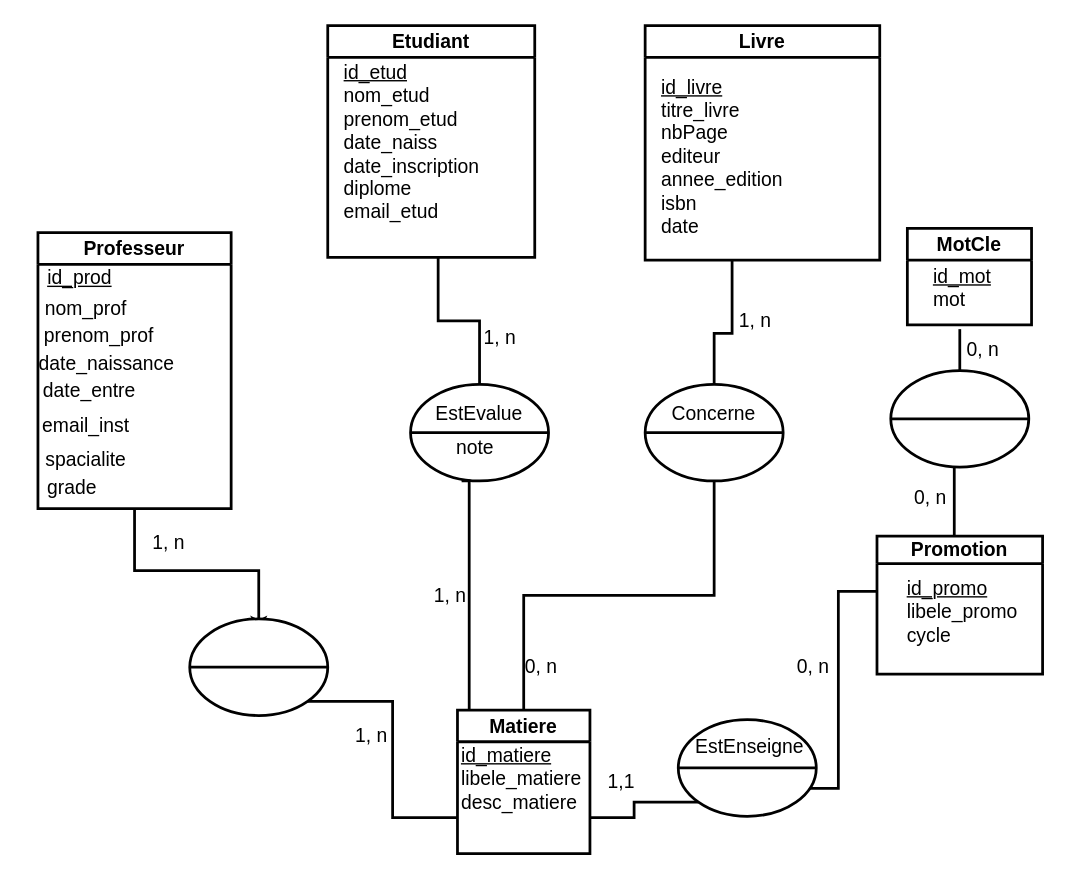
Some shapes in this 1067 by 878 pixel diagram are drawn without their labels. Each missing label, with the centre of its shape:
Associe: (x=959, y=418)
Enseigne: (x=258, y=666)
